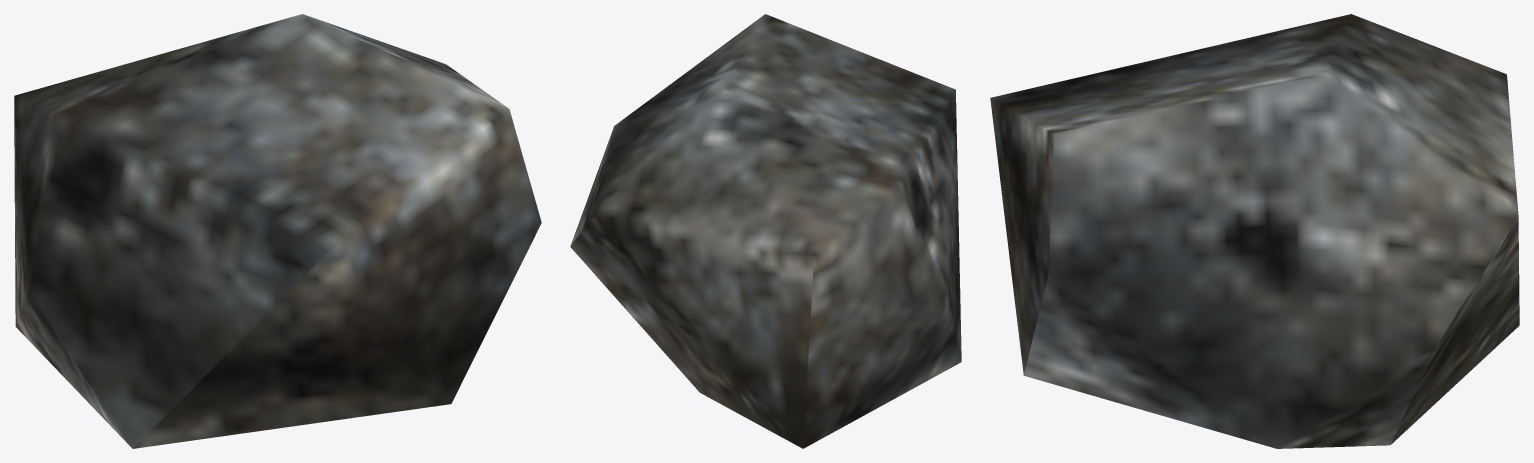
File: Rock2_8.fbx
3 views of the same model, side by side, from view 1: azimuth 30°, elevation 25°; view 2: azimuth 150°, elevation 25°; view 3: azimuth 270°, elevation 25° (orthographic). The views are drawn at different scales.
Visible parts, largest first — view 1: Rock2_LOD_8; view 2: Rock2_LOD_8; view 3: Rock2_LOD_8.
Part boxes in pixels (<box>): Rock2_LOD_8: <box>14,14,541,448</box>; Rock2_LOD_8: <box>570,14,961,448</box>; Rock2_LOD_8: <box>990,14,1519,448</box>.
Size of the model in its own units: 1.07 by 0.8776 by 1.13.
